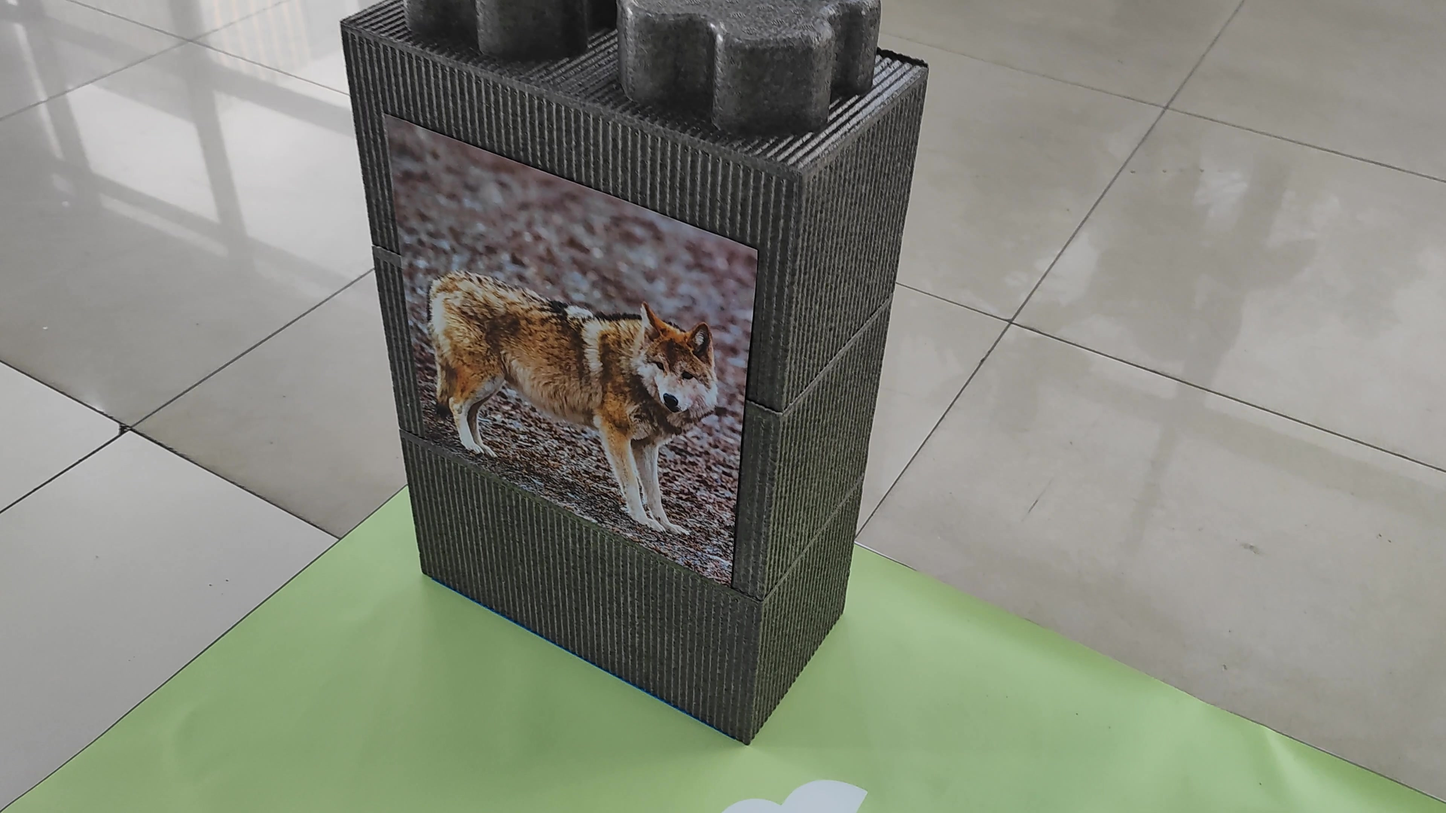wolf: (398, 186, 757, 550)
